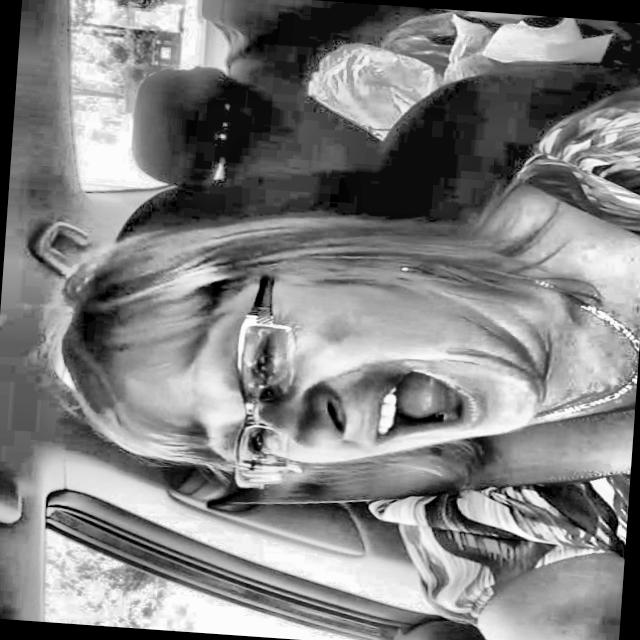open_eyes: (233, 329, 287, 395), (228, 427, 283, 480)
open_mouth: (349, 357, 484, 455)
